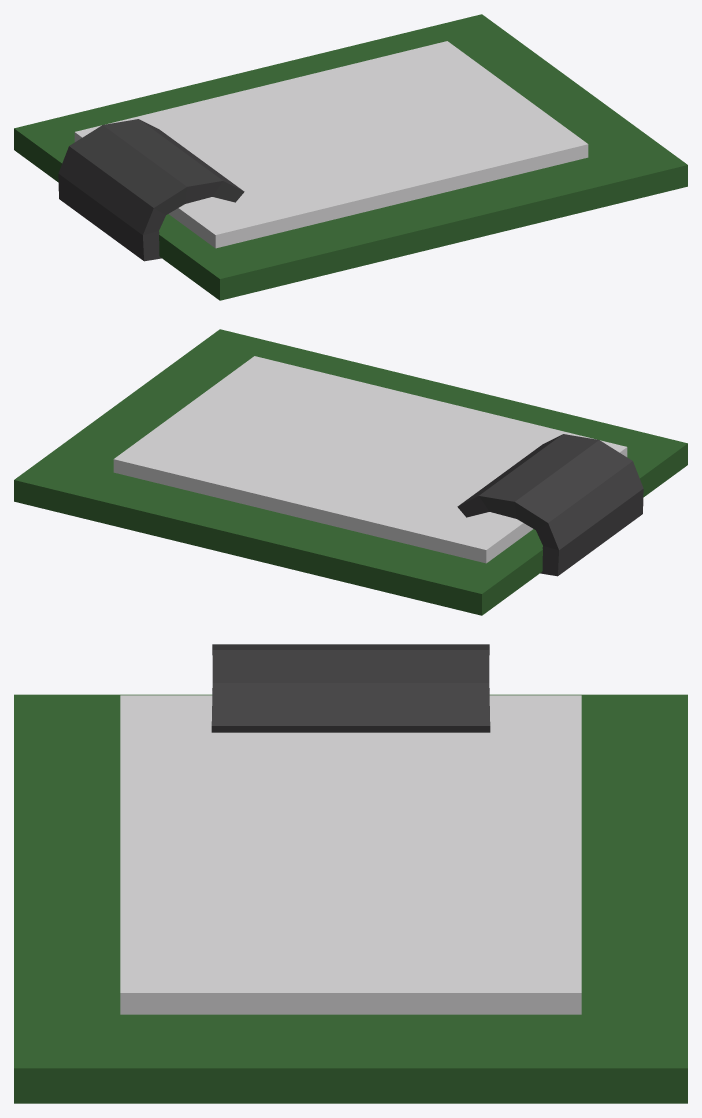
File: SM_Notepad_02.glb
The picture shows the model from 3 angles, top to bottom: view 1: azimuth 30°, elevation 25°; view 2: azimuth 150°, elevation 25°; view 3: azimuth 270°, elevation 25°; orthographic projection. The views are drawn at different scales.
Parts seen in each view (by area): view 1: SM_Notepad_02; view 2: SM_Notepad_02; view 3: SM_Notepad_02.
Boxes of the visible parts, x1,y1,x2,y2 form: SM_Notepad_02: [14, 14, 687, 300]; SM_Notepad_02: [14, 329, 687, 615]; SM_Notepad_02: [14, 644, 687, 1103].
Size of the model in its own units: 0.4418 by 0.0567 by 0.3254.
1 material, 1 textured.
